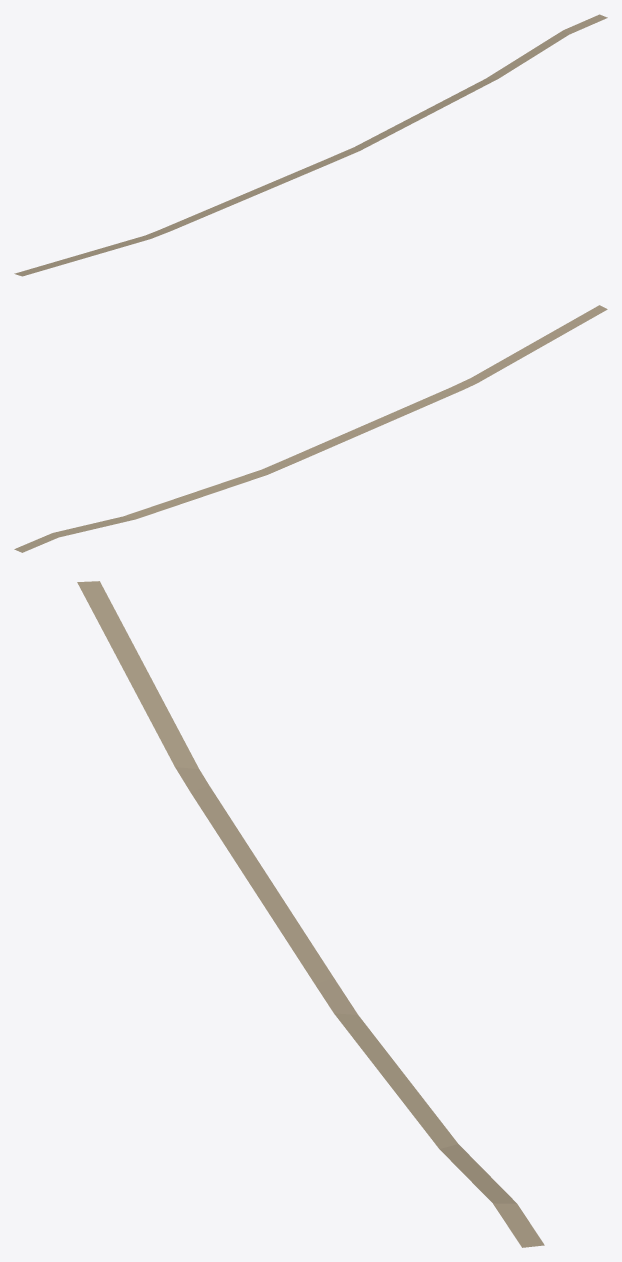
Rendered from farm_-2_9_track.glb.
3 renders of one model, top to bottom at view 1: azimuth 30°, elevation 25°; view 2: azimuth 210°, elevation 25°; view 3: azimuth 270°, elevation 25°, orthographic. The views are drawn at different scales.
Parts seen in each view (by area): view 1: geometry_0; view 2: geometry_0; view 3: geometry_0.
Boxes of the visible parts, box(x1,y1,x2,y2) form: geometry_0: box(14, 14, 607, 276); geometry_0: box(14, 305, 607, 552); geometry_0: box(77, 581, 544, 1247).
Size of the model in its own units: 225 by 8.43 by 65.12.
